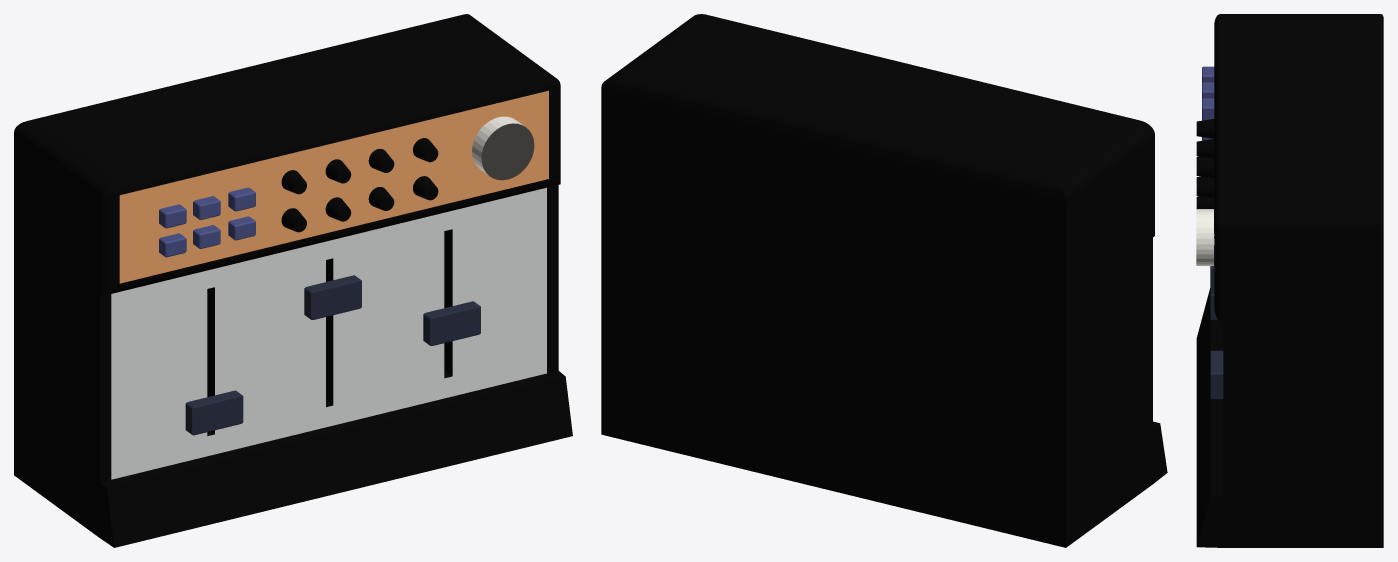
File: mixer.fbx
The picture shows the model from 3 angles, left to right: view 1: azimuth 30°, elevation 25°; view 2: azimuth 150°, elevation 25°; view 3: azimuth 270°, elevation 25°; orthographic projection. The views are drawn at different scales.
Visible parts, largest first — view 1: Cube, Cylinder, Cube.003, Cube.001, Cube.002; view 2: Cube; view 3: Cube, Cylinder, Cube.001, Cylinder.002, Cylinder.001, Cylinder.006, Cylinder.005, Cube.005.
Part boxes in pixels (box(x1,y1,x2,y2)): Cube: box(14, 14, 572, 547); Cylinder: box(472, 116, 534, 180); Cube.003: box(185, 390, 243, 435); Cube.001: box(423, 301, 480, 345); Cube.002: box(304, 275, 361, 319); Cube: box(601, 14, 1167, 547); Cube: box(1196, 14, 1383, 547); Cylinder: box(1196, 209, 1214, 265); Cube.001: box(1210, 350, 1223, 399); Cylinder.002: box(1196, 158, 1214, 178); Cylinder.001: box(1196, 178, 1214, 198); Cylinder.006: box(1196, 119, 1214, 138); Cylinder.005: box(1196, 139, 1214, 158); Cube.005: box(1202, 98, 1214, 120).
Bounding box in the file's own units: 193 × 143 × 73.45.
